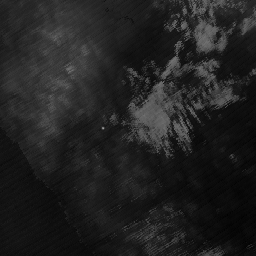Target: (100, 125, 106, 131)
